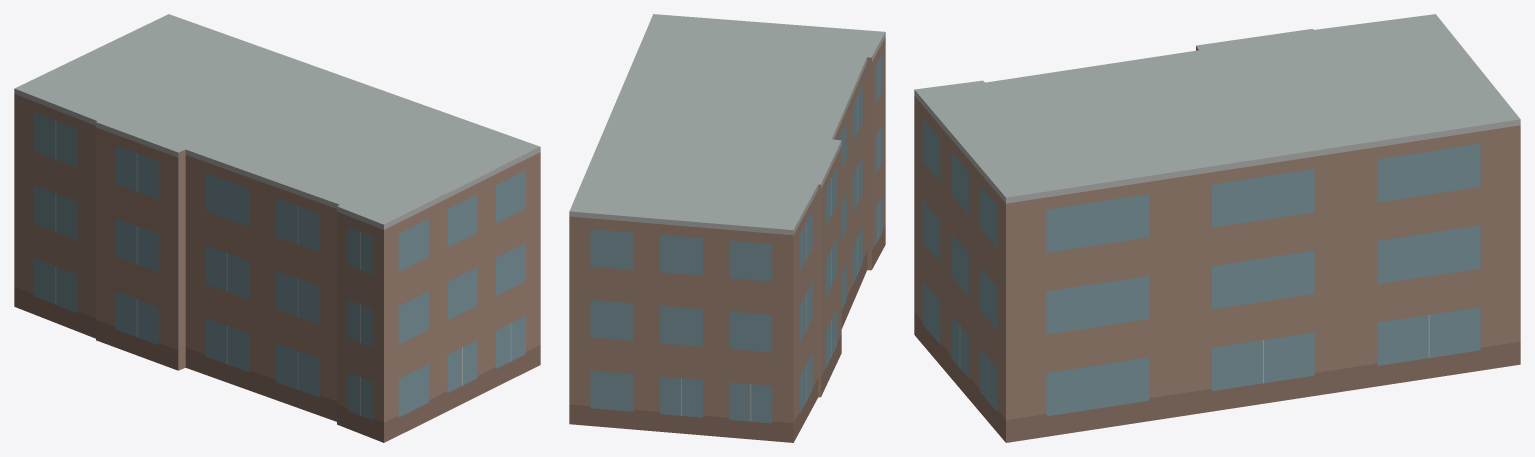
The model's file is survey-upis-32527602.glb.
3 views of the same model, side by side, from view 1: azimuth 30°, elevation 25°; view 2: azimuth 150°, elevation 25°; view 3: azimuth 270°, elevation 25° (orthographic). The views are drawn at different scales.
Visible parts, largest first — view 1: survey-upis-32527602.tmp; view 2: survey-upis-32527602.tmp; view 3: survey-upis-32527602.tmp.
Part boxes in pixels (<box>): survey-upis-32527602.tmp: <box>14,14,540,442</box>; survey-upis-32527602.tmp: <box>569,14,885,442</box>; survey-upis-32527602.tmp: <box>914,14,1520,442</box>.
Size of the model in its own units: 16.41 by 10.2 by 22.88.
